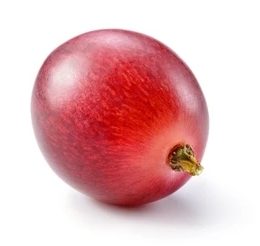grapes: (24, 25, 197, 213)
